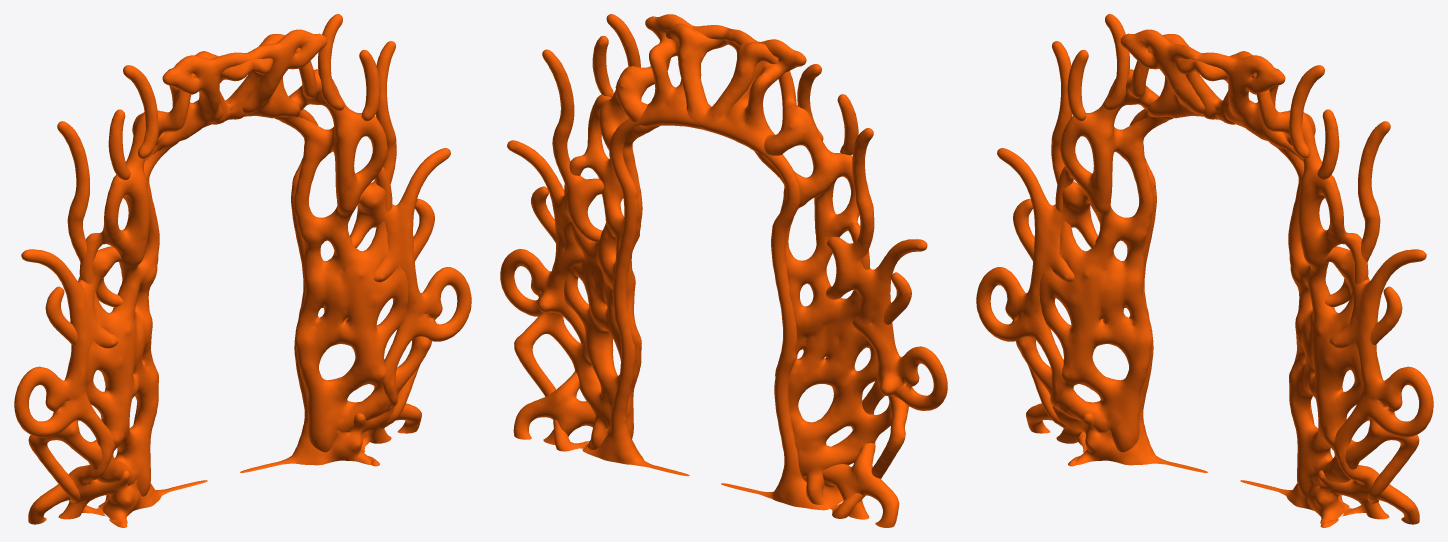
File: Trickster-Erratic-doorway-middle.glb
3 renders of one model, left to right at view 1: azimuth 30°, elevation 25°; view 2: azimuth 150°, elevation 25°; view 3: azimuth 330°, elevation 25°, orthographic. The views are drawn at different scales.
Visible parts, largest first — view 1: Volume Line.001; view 2: Volume Line.001; view 3: Volume Line.001.
Part boxes in pixels (<box>): Volume Line.001: <box>14,14,471,527</box>; Volume Line.001: <box>500,14,947,527</box>; Volume Line.001: <box>976,14,1433,527</box>.
Size of the model in its own units: 1.3 by 1.22 by 0.1861.
